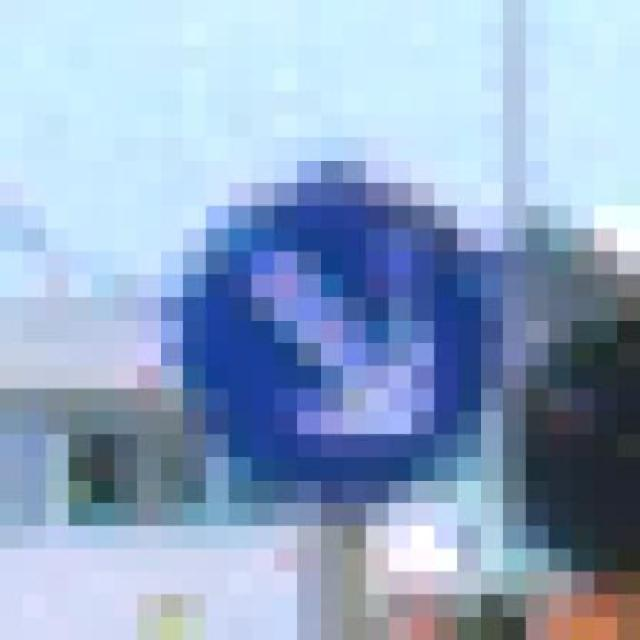Keep-Right: (160, 114, 526, 526)
